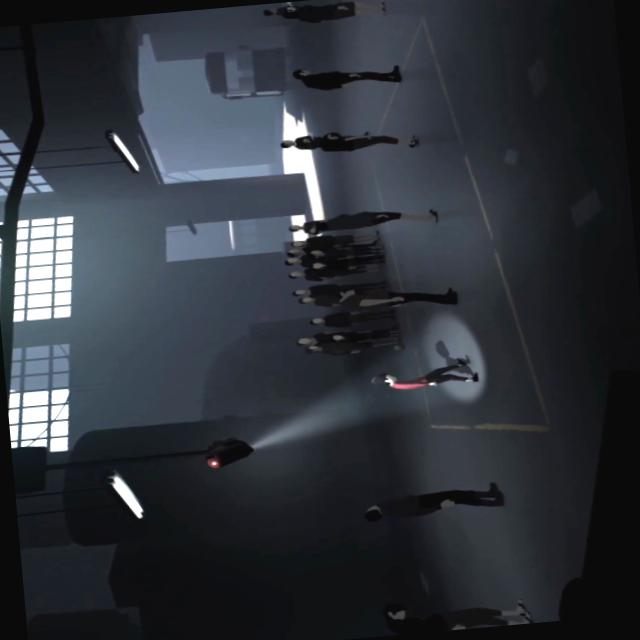boy: (368, 358, 476, 393)
human: (287, 260, 386, 284), (308, 306, 397, 331), (285, 228, 382, 250), (304, 338, 401, 359), (290, 278, 386, 296), (306, 242, 382, 261), (330, 327, 399, 342), (295, 292, 338, 310), (279, 134, 318, 152), (294, 331, 329, 346), (286, 221, 310, 235)
zombie: (377, 592, 533, 636), (360, 481, 502, 524), (337, 281, 458, 313), (290, 61, 400, 94), (309, 206, 436, 234), (317, 124, 417, 156), (273, 0, 386, 27)
